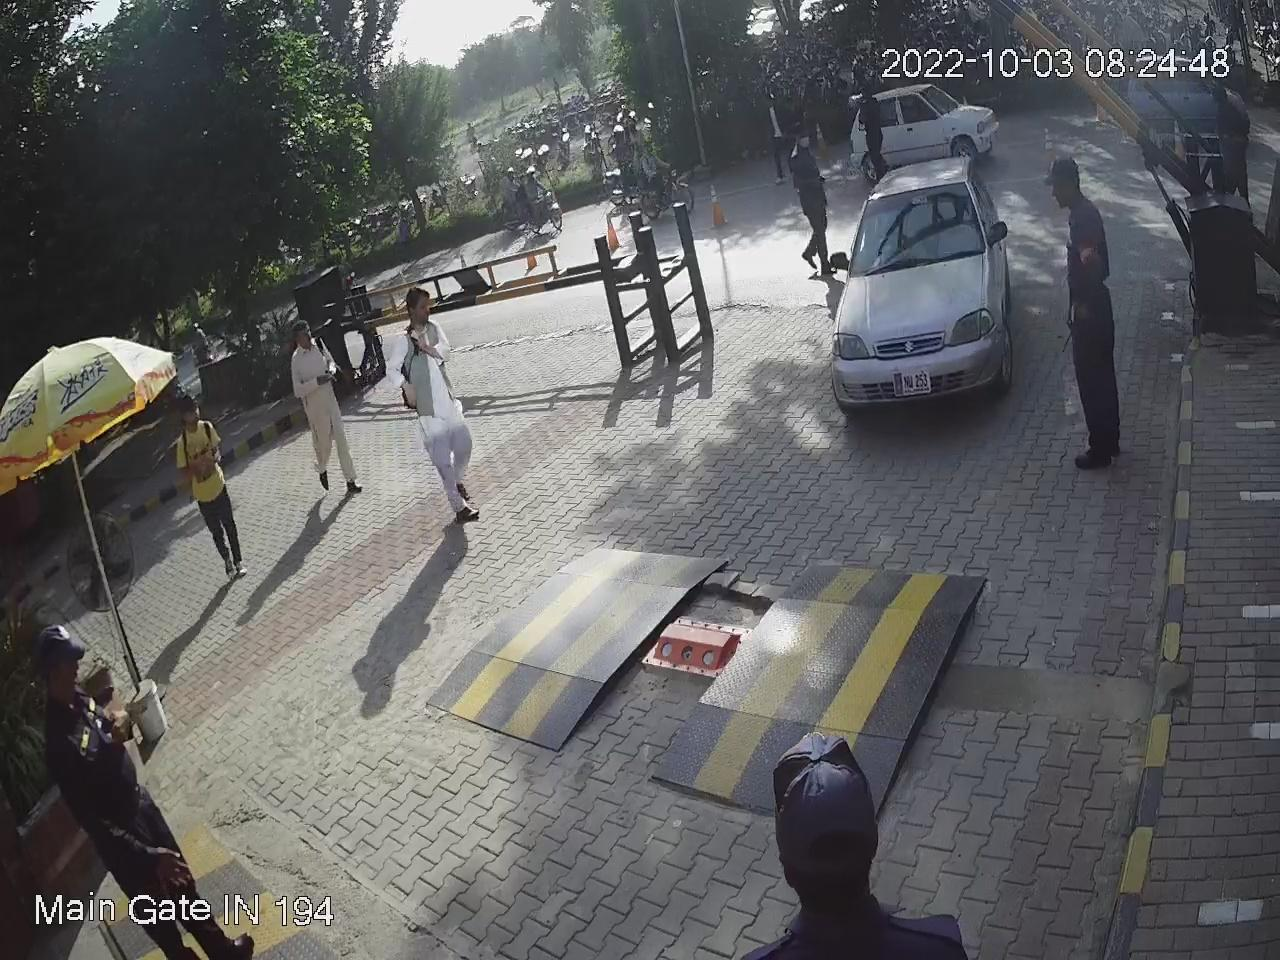windshield: (838, 177, 991, 280)
